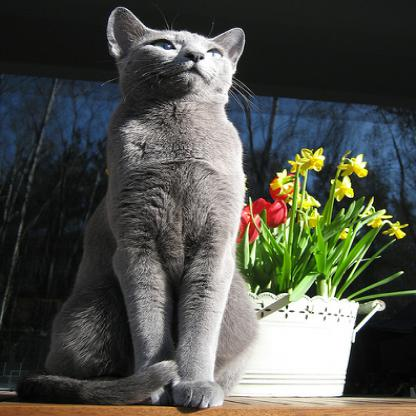cat: (15, 5, 262, 410)
pottedplant: (228, 146, 415, 397)
